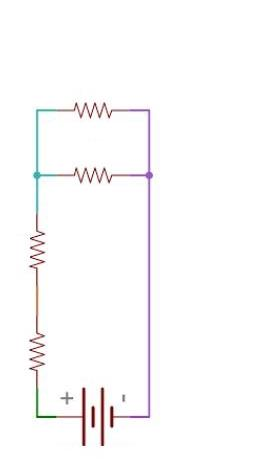resistor: (14, 216, 54, 274), (58, 157, 126, 189), (22, 316, 55, 375), (67, 92, 123, 120)
